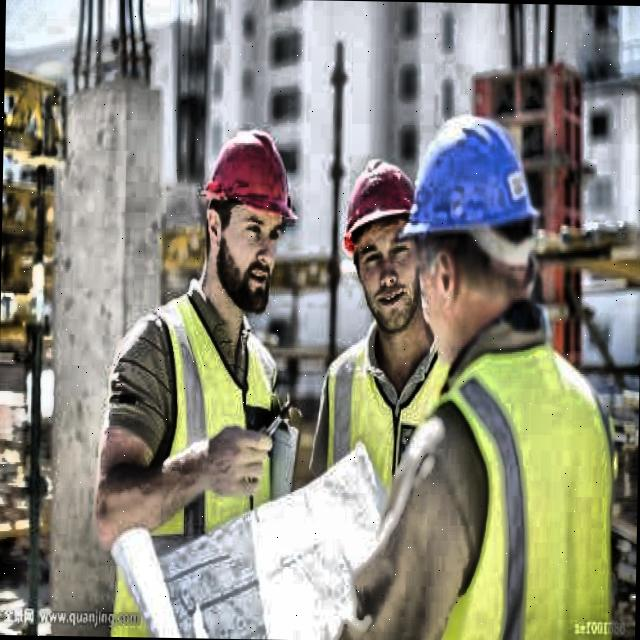helmet: (397, 113, 542, 357), (340, 134, 450, 346), (188, 113, 300, 313)
